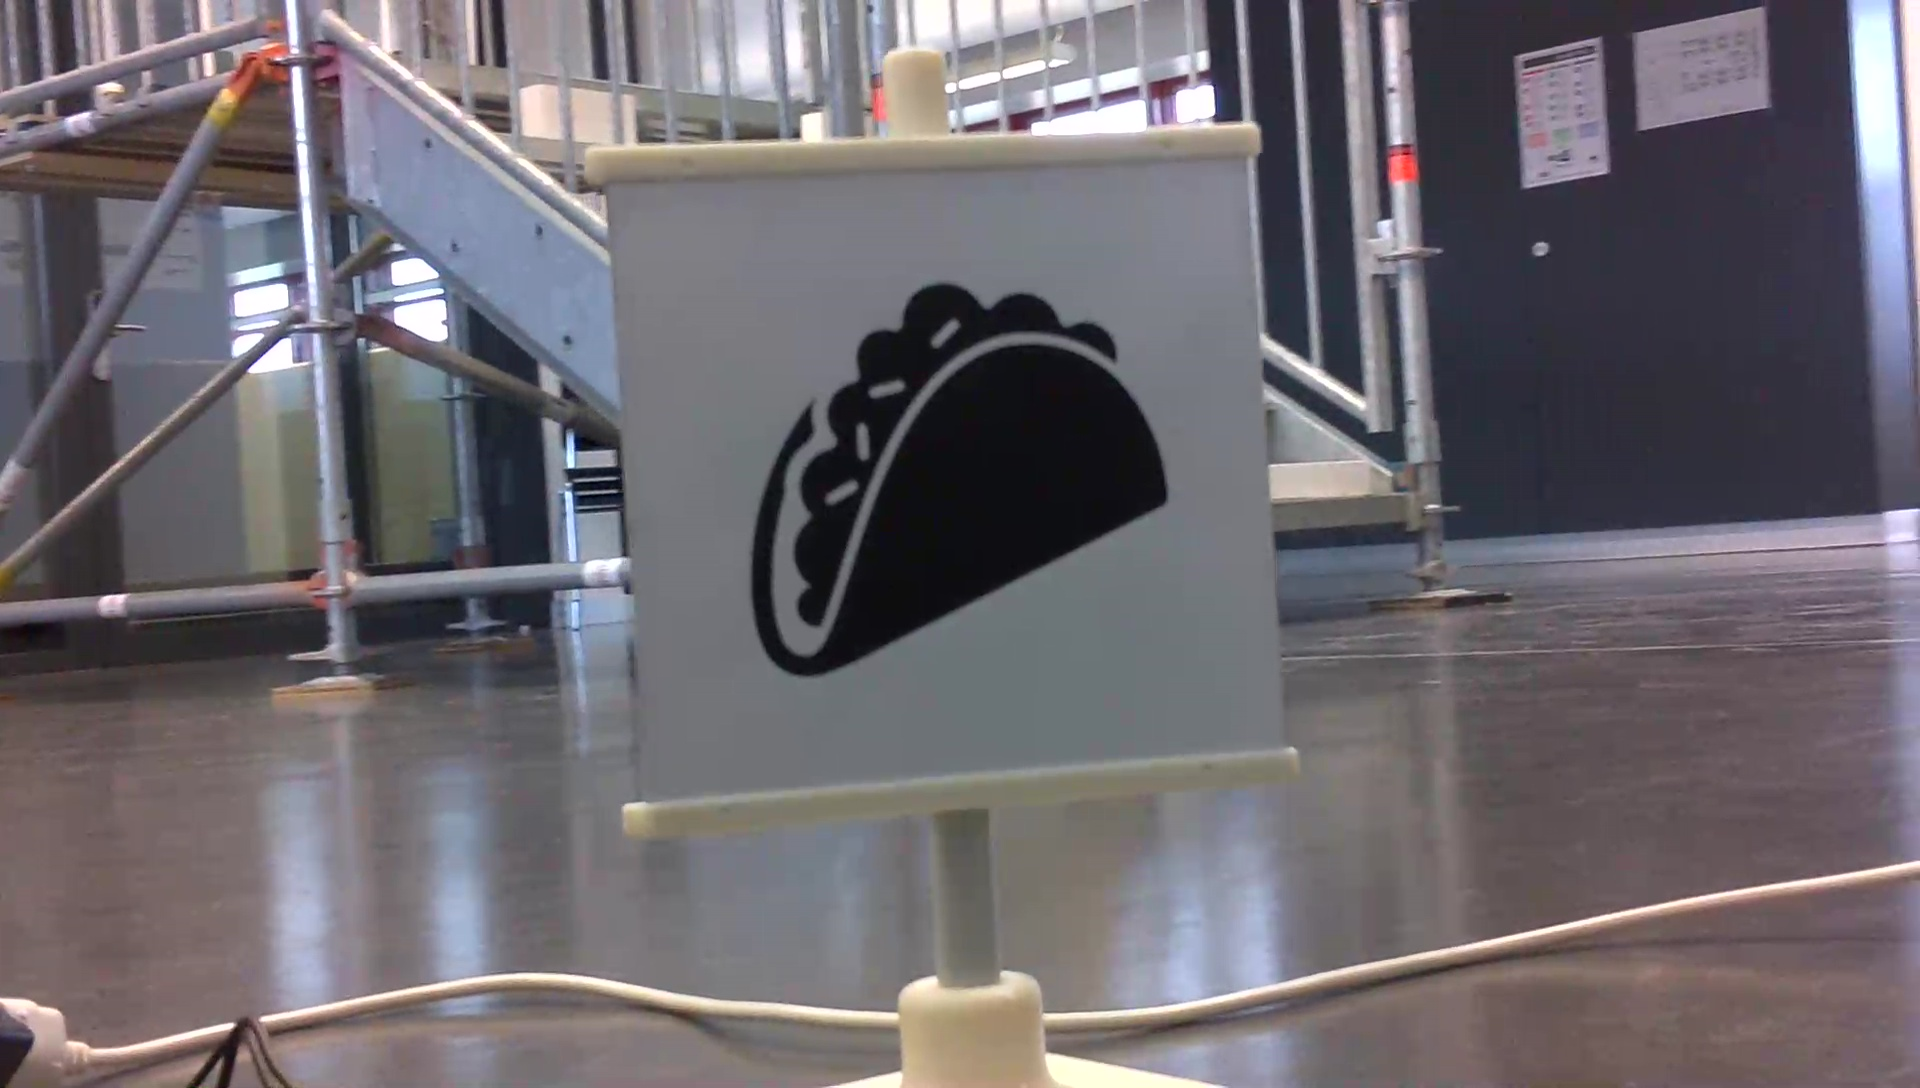brick: (1269, 462, 1367, 495)
taco: (738, 274, 1178, 687)
